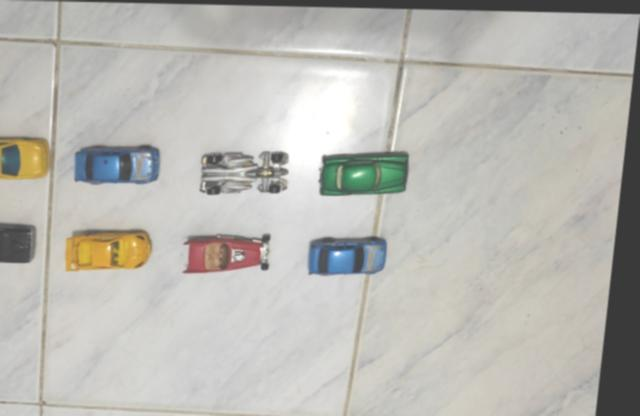01_FORD: (0, 221, 44, 263)
02_OZSOME: (0, 135, 54, 179)
03_V8: (189, 232, 278, 273)
04_MERZEDES: (77, 143, 165, 183), (314, 233, 394, 273)
05_DC121: (203, 148, 295, 194)
06_MASERATI: (322, 147, 414, 194)
07_RHLTURBO: (71, 227, 159, 271)
